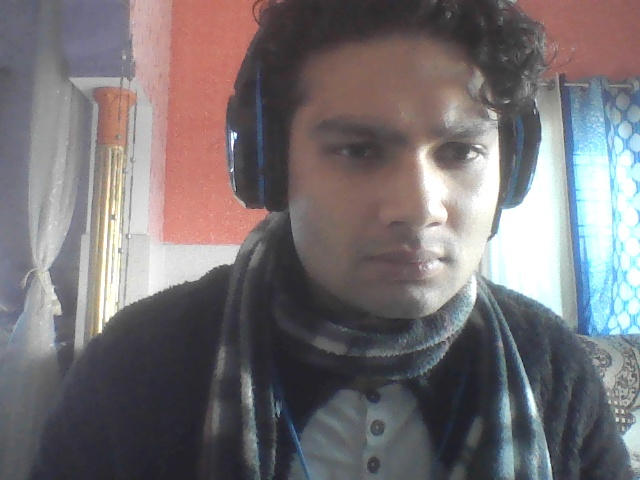real: (241, 0, 529, 408)
